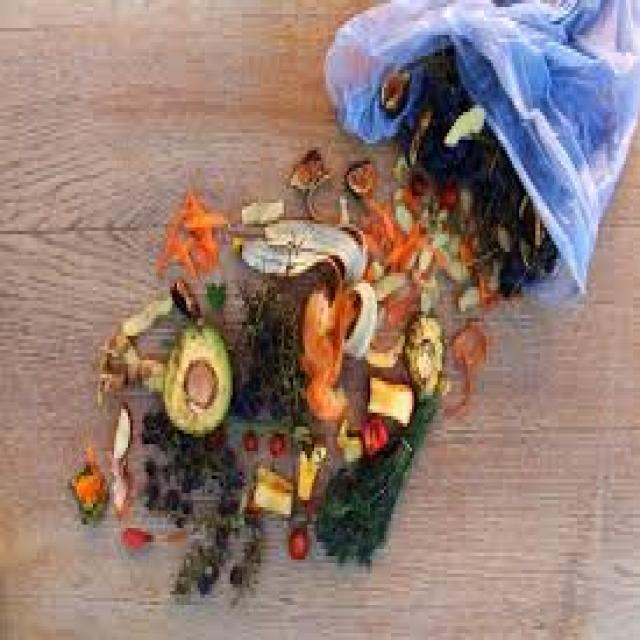Wet: (51, 68, 580, 600), (144, 303, 246, 458)
